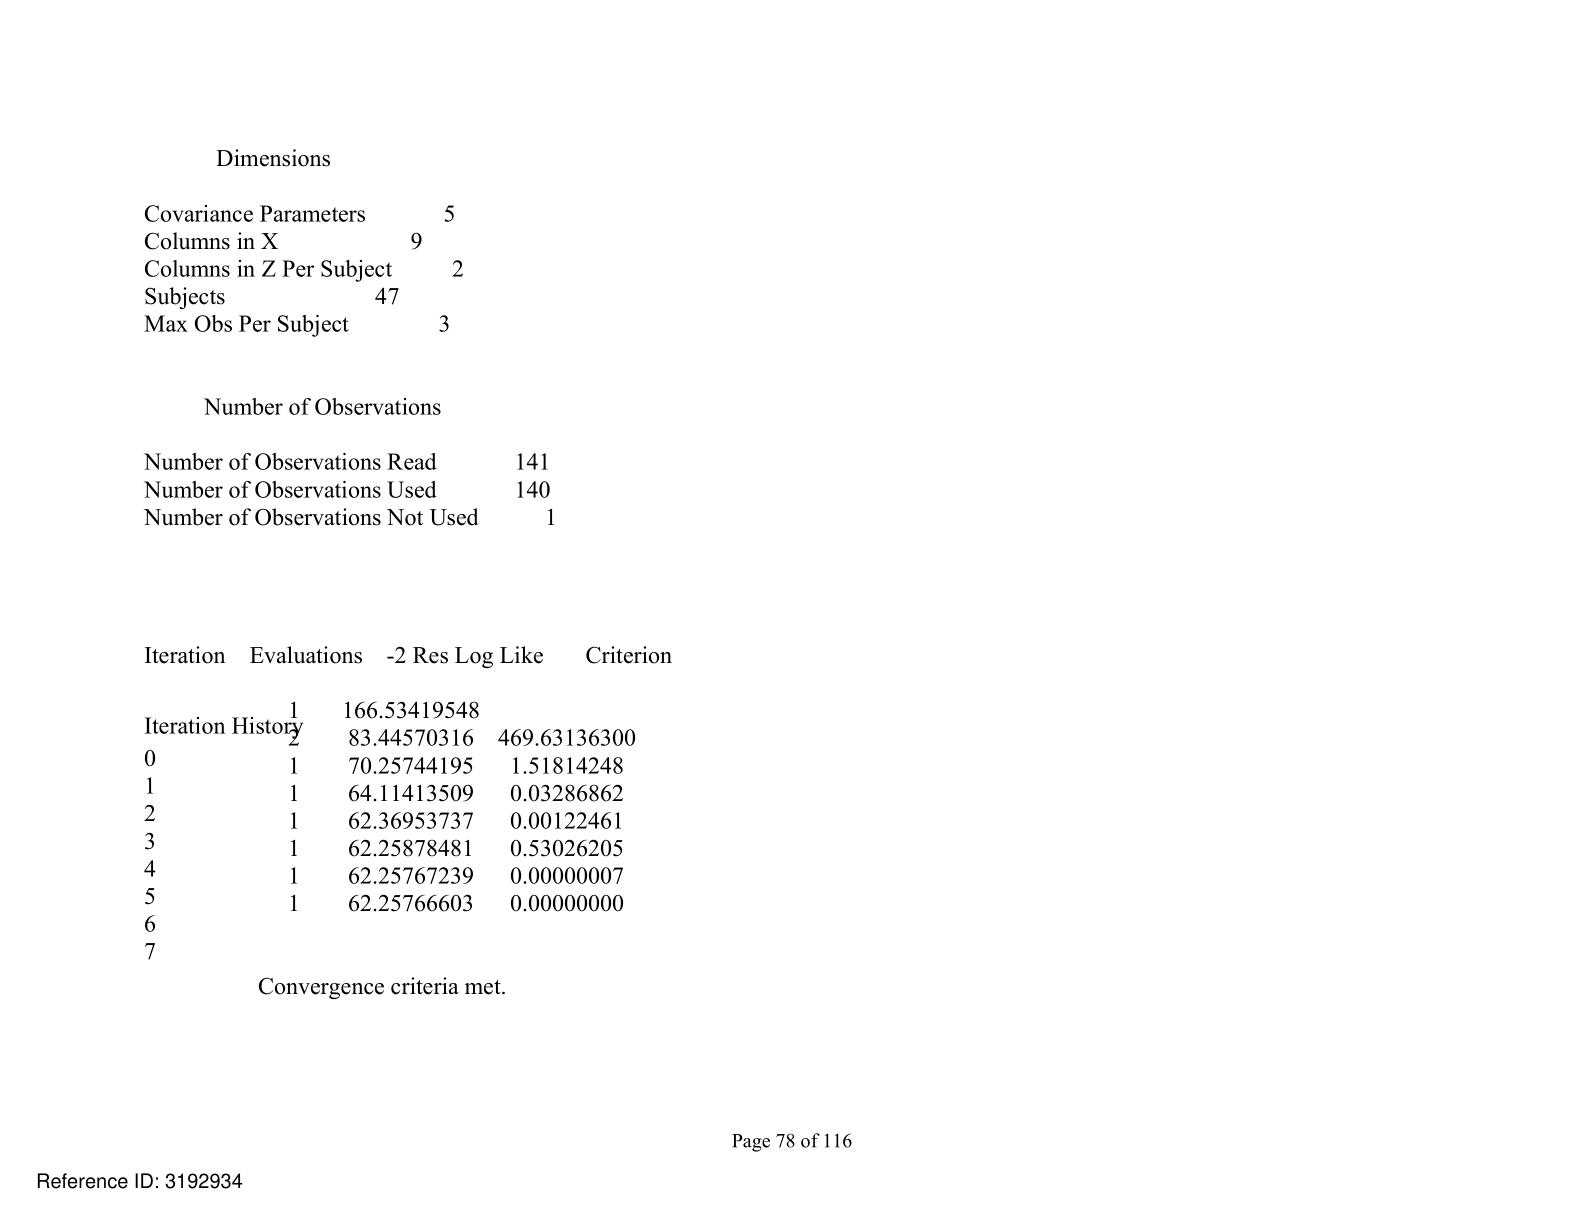nolines: (141, 642, 675, 960), (141, 201, 465, 343), (141, 447, 555, 528)
